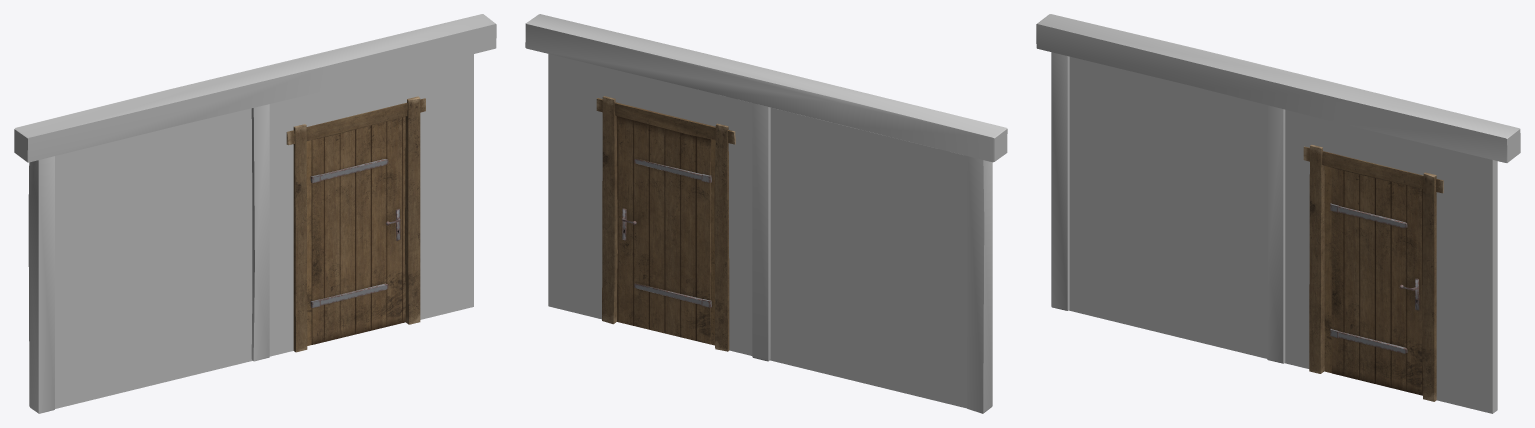
Rendered from SM_WallElement_06_LOD_01.FBX.
The picture shows the model from 3 angles, left to right: view 1: azimuth 30°, elevation 25°; view 2: azimuth 150°, elevation 25°; view 3: azimuth 330°, elevation 25°; orthographic projection.
Visible parts, largest first — view 1: SM_WallElement_06_LOD_01, SM_Door_01_LOD_02; view 2: SM_WallElement_06_LOD_01, SM_Door_01_LOD_02; view 3: SM_WallElement_06_LOD_01, SM_Door_01_LOD_02.
Boxes of the visible parts, box(x1,y1,x2,y2) form: SM_WallElement_06_LOD_01: box(14, 14, 496, 413); SM_Door_01_LOD_02: box(310, 116, 405, 344); SM_WallElement_06_LOD_01: box(525, 14, 1007, 413); SM_Door_01_LOD_02: box(616, 116, 711, 344); SM_WallElement_06_LOD_01: box(1036, 14, 1520, 413); SM_Door_01_LOD_02: box(1330, 167, 1423, 395).
Size of the model in its own units: 5.46 by 3.16 by 0.302.
